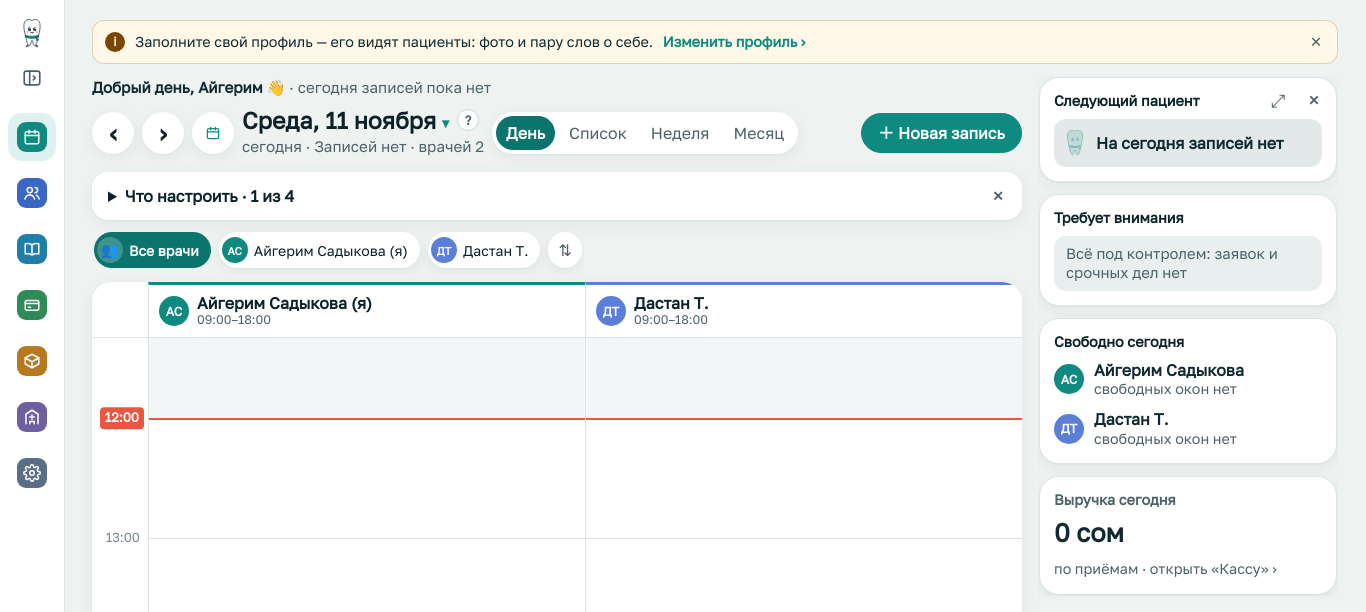
«Месяц» › числа записей по дням (все врачи, один запрос на врача за месяц), выходные — штриховкой, клик — тот же день «Списком»
The width and height of the screenshot is (1366, 612).
(page scrolled)
What coordinates should you click on to do the following:
click the button "Месяц"
I would click on:
 (759, 132)
Its box is [723,116,794,150].
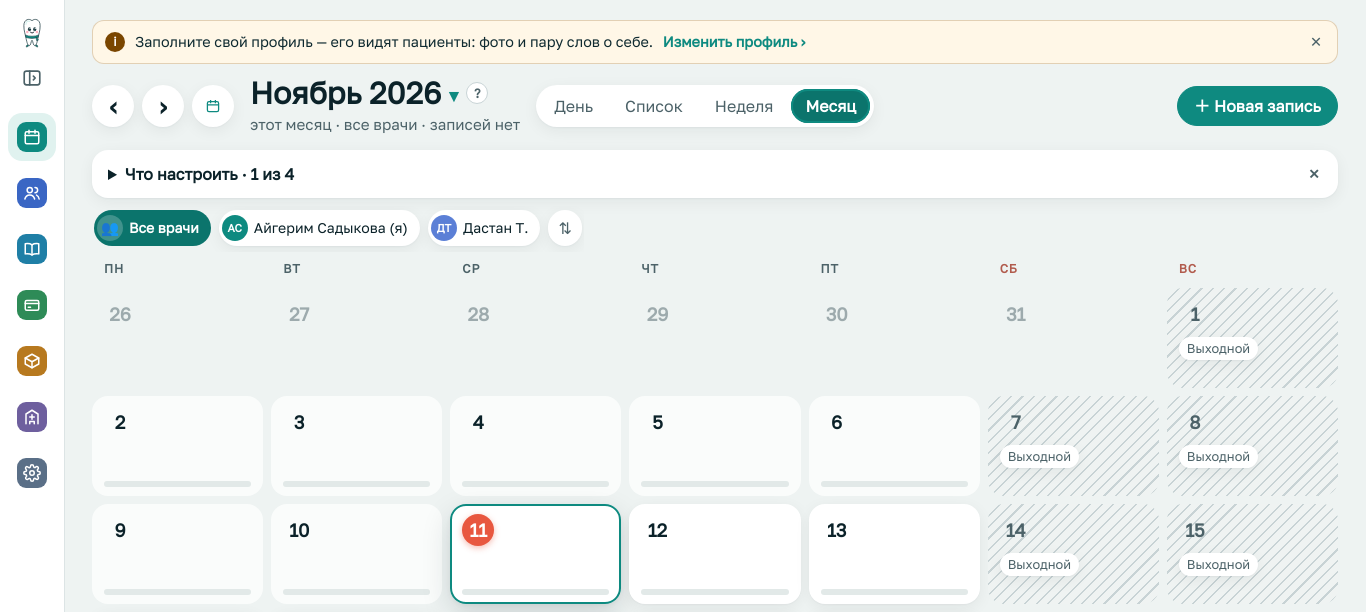
What coordinates should you click on to do the following:
click the button named "Следующий месяц"
I would click on:
 (163, 106)
Its box is [142,85,184,127].
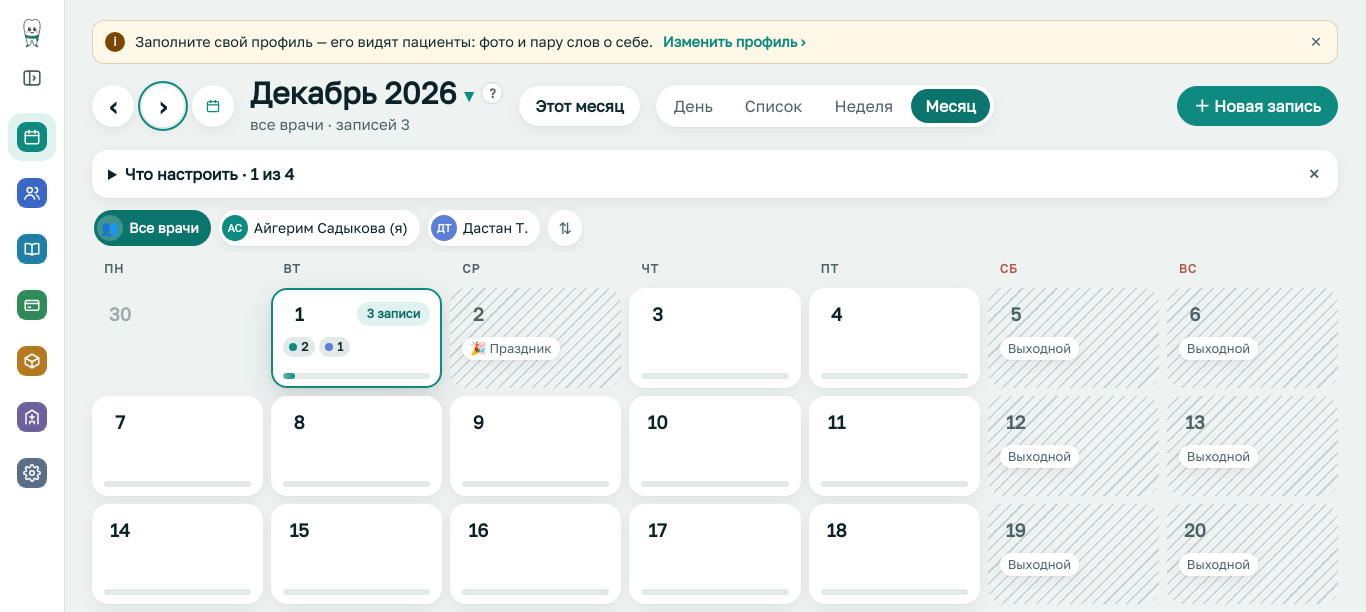
Expected: the element showing "Декабрь 2026 ▾ ? все врачи · записей 3" is shown, [250,76,503,136]
What coordinates should you click on to do the following:
click the button "1 3 записи 2 1"
I would click on:
 (357, 338)
Its box is [271,288,442,388].
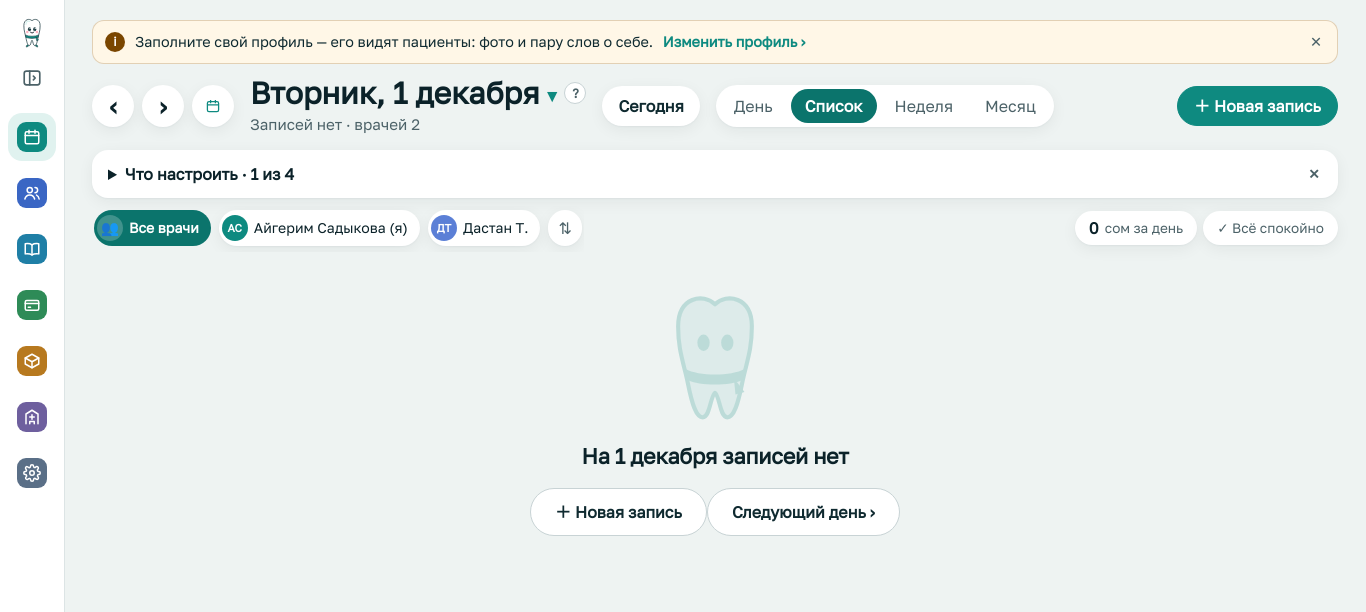
Expected: the button "Список" is pressed, [791,89,876,123]
